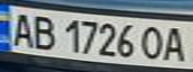1: (57, 16, 81, 53)
2: (96, 19, 121, 57)
6: (115, 20, 142, 60)
7: (78, 17, 100, 55)
A: (6, 9, 39, 47), (160, 24, 190, 63)
B: (27, 12, 60, 51)
O: (139, 24, 169, 61)
